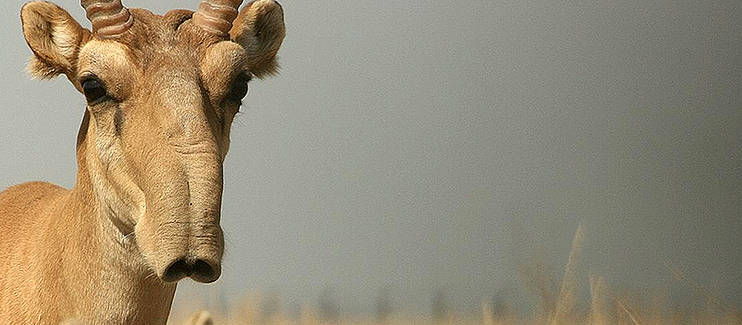saiga: (1, 1, 293, 325)
